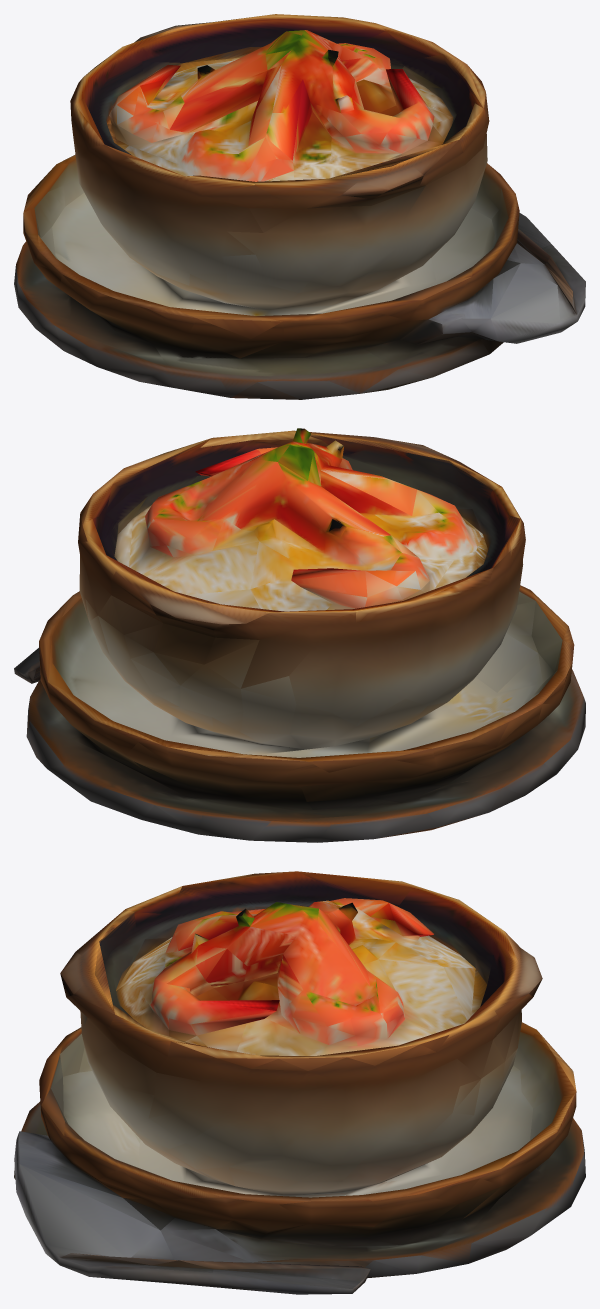
Rendered from c粉丝虾.fbx.
3 renders of one model, top to bottom at view 1: azimuth 30°, elevation 25°; view 2: azimuth 150°, elevation 25°; view 3: azimuth 270°, elevation 25°, orthographic. The views are drawn at different scales.
Visible parts, largest first — view 1: material; view 2: material; view 3: material.
Part boxes in pixels (x1,y1,x2,y2): material: [14, 14, 585, 399]; material: [14, 428, 585, 842]; material: [14, 871, 585, 1294].
Bounding box in the file's own units: 98.23 × 50.25 × 94.9.
1 material, 1 textured.
